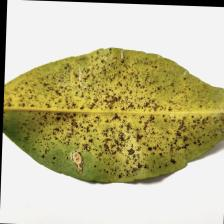canker: (24, 76, 184, 168)
